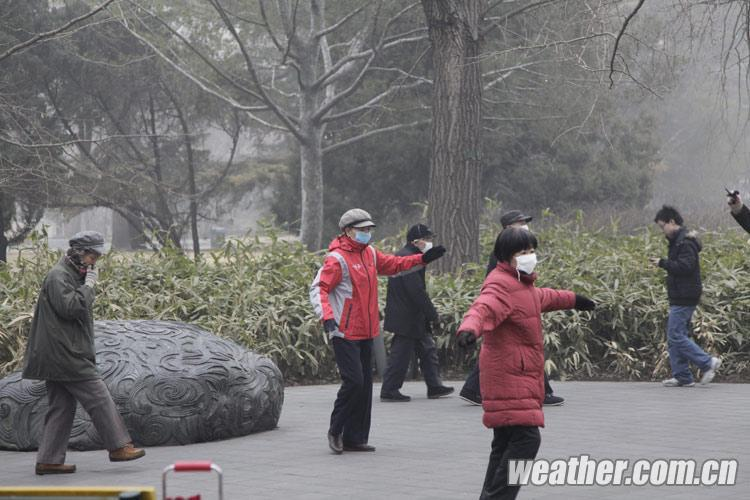mask: (511, 253, 544, 280), (349, 227, 376, 244)
